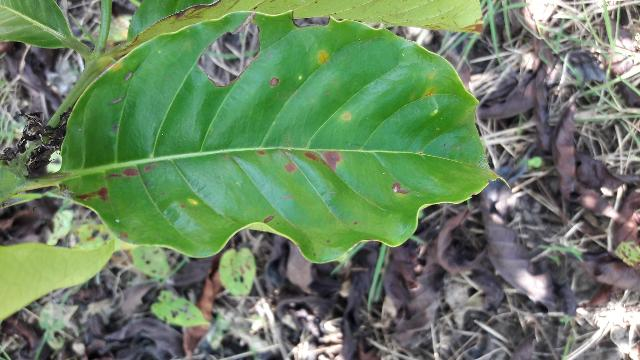red_spider_mite: (57, 8, 518, 266)
